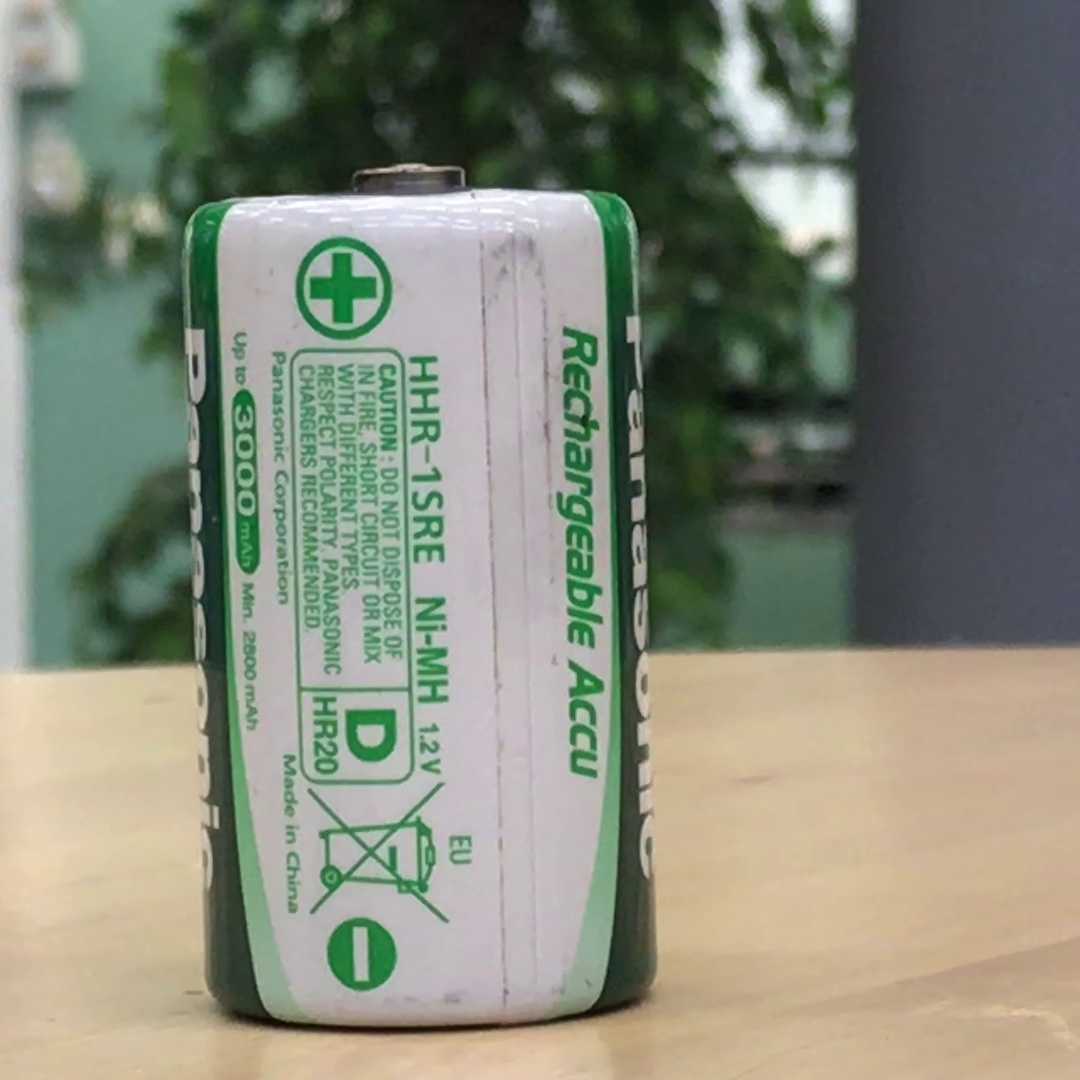keyword: (398, 575, 456, 706)
